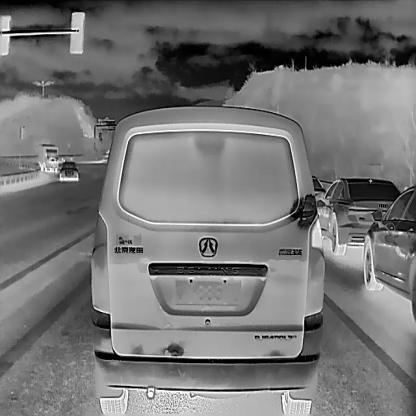car: (90, 103, 323, 413), (362, 184, 415, 324), (316, 176, 404, 255), (59, 159, 79, 180)
truck: (37, 143, 58, 171)
